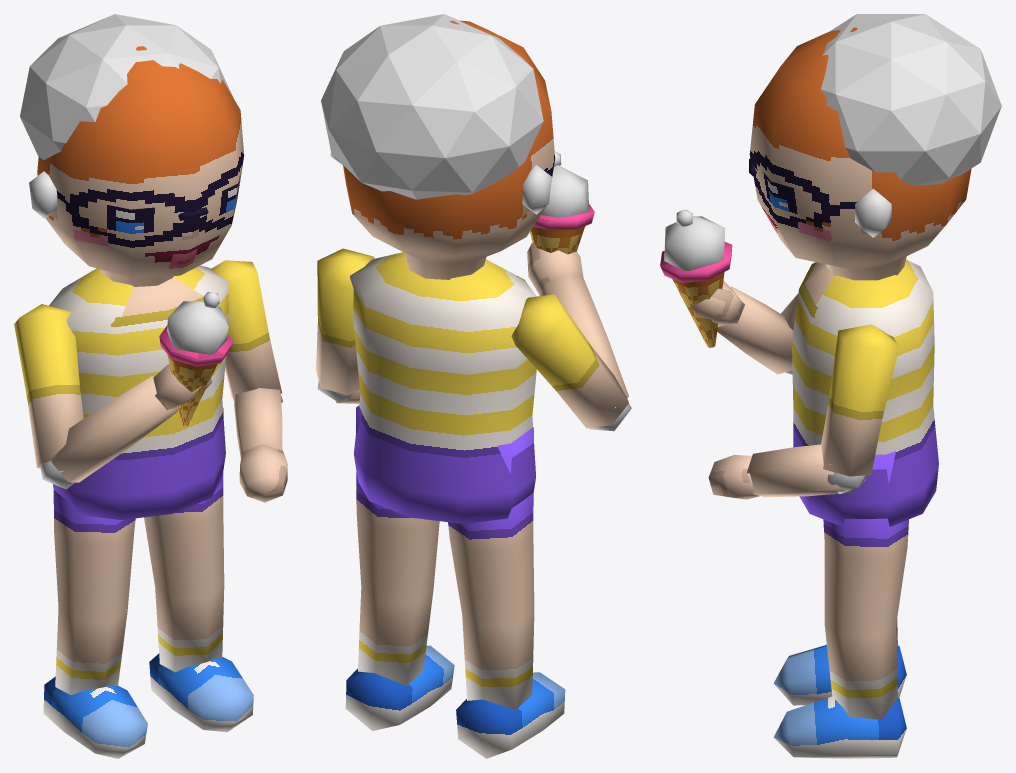
File: Kid Glasses.fbx
3 views of the same model, side by side, from view 1: azimuth 30°, elevation 25°; view 2: azimuth 150°, elevation 25°; view 3: azimuth 270°, elevation 25° (orthographic). The views are drawn at different scales.
Parts seen in each view (by area): view 1: Kid Glasses head, Kid Glasses torso, Kid Glasses hair hair cap, Kid Glasses leg R.001, Kid Glasses leg L.001, Kid Glasses arm R upper, Kid Glasses arm R forearm.001, Kid Glasses shoe L, Kid Glasses shoe R, Kid Glasses arm L upper, Kid Glasses arm L forearm.001, Kid Glasses cone scoop (+6 smaller); view 2: Kid Glasses torso, Kid Glasses hair hair cap, Kid Glasses leg R.001, Kid Glasses head, Kid Glasses leg L.001, Kid Glasses arm R upper, Kid Glasses arm L upper, Kid Glasses shoe R, Kid Glasses shoe L, Kid Glasses arm R forearm.001, Kid Glasses cone scoop, Kid Glasses arm R hand (+3 smaller); view 3: Kid Glasses head, Kid Glasses hair hair cap, Kid Glasses torso, Kid Glasses leg L.001, Kid Glasses arm L upper, Kid Glasses shoe L, Kid Glasses arm L forearm.001, Kid Glasses arm R forearm.001, Kid Glasses shoe R, Kid Glasses cone scoop, Kid Glasses arm L hand, Kid Glasses cone (+3 smaller).
Boxes of the visible parts, x1,y1,x2,y2 form: Kid Glasses head: (37,46,244,286); Kid Glasses torso: (49,265,228,519); Kid Glasses hair hair cap: (20,14,232,160); Kid Glasses leg R.001: (53,490,135,695); Kid Glasses leg L.001: (144,408,224,672); Kid Glasses arm R upper: (14,304,83,468); Kid Glasses arm R forearm.001: (51,376,177,482); Kid Glasses shoe L: (149,653,253,732); Kid Glasses shoe R: (43,676,147,758); Kid Glasses arm L upper: (211,260,281,402); Kid Glasses arm L forearm.001: (234,388,282,457); Kid Glasses cone scoop: (167,301,228,354); Kid Glasses torso: (350,252,536,523); Kid Glasses hair hair cap: (321,14,543,199); Kid Glasses leg R.001: (448,427,534,709); Kid Glasses head: (343,20,555,279); Kid Glasses leg L.001: (356,405,439,685); Kid Glasses arm R upper: (511,294,628,428); Kid Glasses arm L upper: (316,248,374,394); Kid Glasses shoe R: (456,672,565,758); Kid Glasses shoe L: (345,645,454,730); Kid Glasses arm R forearm.001: (539,274,628,398); Kid Glasses cone scoop: (541,165,589,217); Kid Glasses arm R hand: (527,242,583,295); Kid Glasses head: (749,27,971,280); Kid Glasses hair hair cap: (821,14,1001,185); Kid Glasses torso: (792,259,938,526); Kid Glasses leg L.001: (823,451,908,719); Kid Glasses arm L upper: (821,324,899,476); Kid Glasses shoe L: (773,696,906,758); Kid Glasses arm L forearm.001: (747,444,852,497); Kid Glasses arm R forearm.001: (717,286,792,374); Kid Glasses shoe R: (773,645,906,705); Kid Glasses cone scoop: (664,216,725,270); Kid Glasses arm L hand: (708,454,759,499); Kid Glasses cone: (672,272,724,347).
Bounding box in the file's own units: 0.4157 × 1.02 × 0.445.
Materials: 13 (9 with a texture image).
